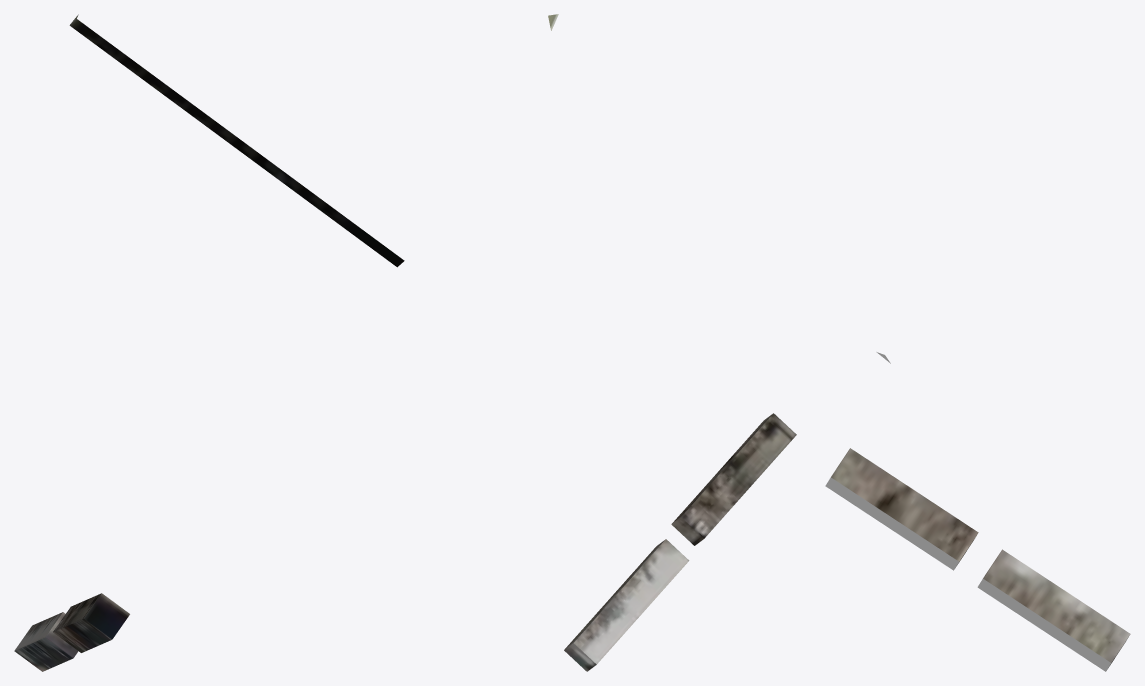
The model's file is 39530_bldg_Building.glb.
3 renders of one model, left to right at view 1: azimuth 30°, elevation 25°; view 2: azimuth 150°, elevation 25°; view 3: azimuth 270°, elevation 25°, orthographic. The views are drawn at different scales.
Size of the model in its own units: 39.61 by 71.63 by 29.43.
2 materials, 1 textured.
